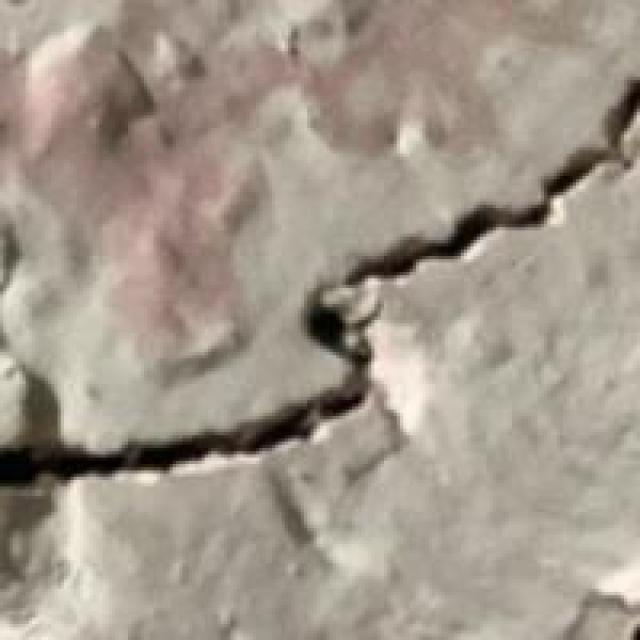crack: (0, 74, 637, 518)
